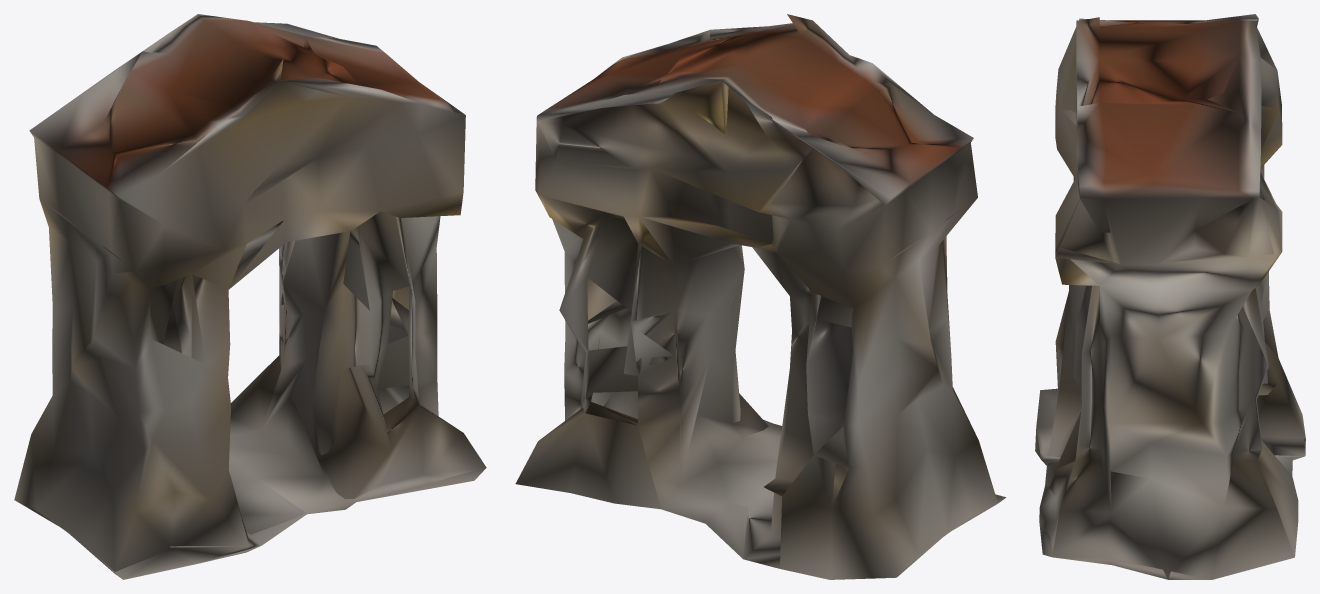
The model's file is civic_city-gate.glb.
3 renders of one model, left to right at view 1: azimuth 30°, elevation 25°; view 2: azimuth 150°, elevation 25°; view 3: azimuth 270°, elevation 25°, orthographic. The views are drawn at different scales.
Visible parts, largest first — view 1: geometry_0; view 2: geometry_0; view 3: geometry_0.
Part boxes in pixels (left/top/right/bottom): geometry_0: left=14, top=14, right=486, bottom=579; geometry_0: left=515, top=14, right=1005, bottom=579; geometry_0: left=1035, top=14, right=1305, bottom=579.
Bounding box in the file's own units: 10.43 × 12 × 6.28.
